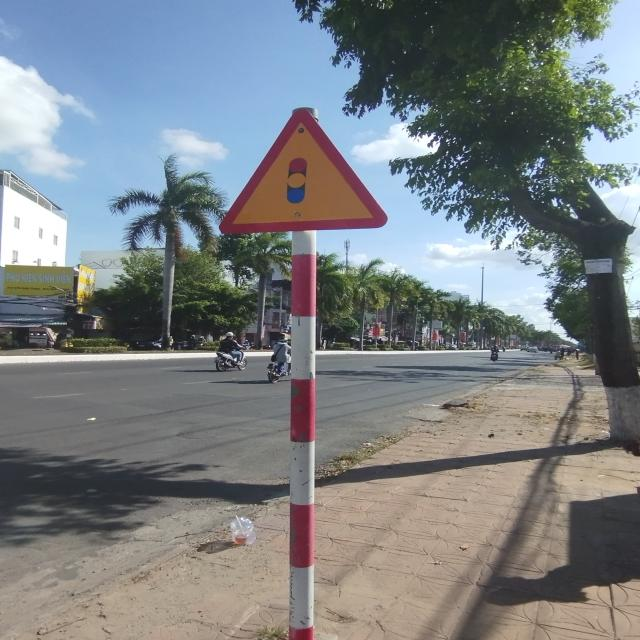Duong_Co_Go_Giam_Toc: (218, 106, 386, 235)
